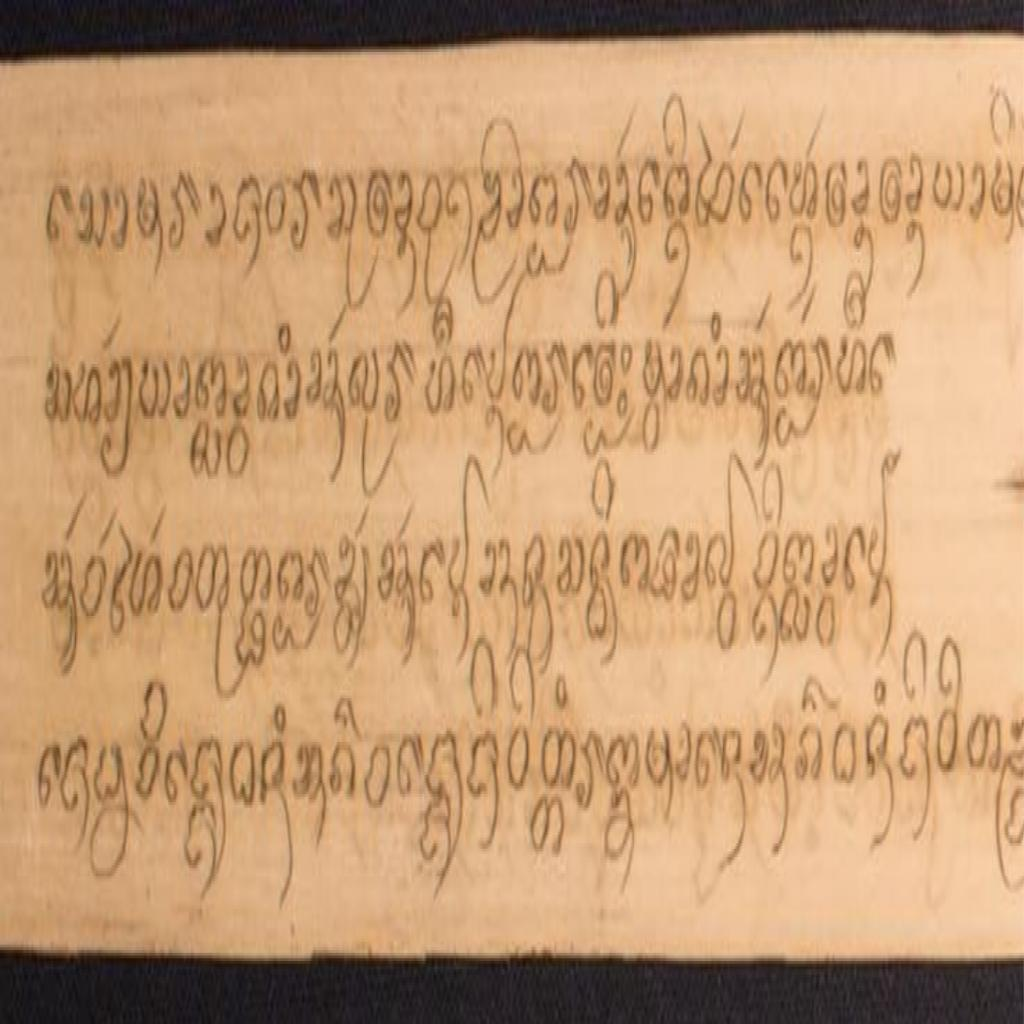LN022: (228, 733, 259, 816)
LN032: (137, 351, 174, 427)
